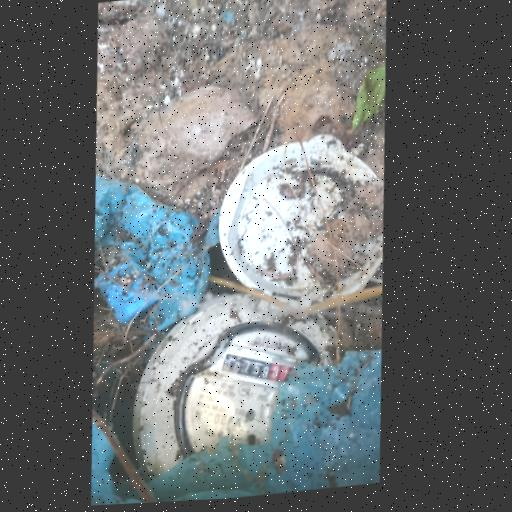0: (220, 352, 237, 374), (229, 354, 246, 376)
3: (267, 362, 283, 383)
5: (245, 357, 265, 379)
7: (237, 356, 255, 377), (275, 364, 293, 385)
9: (257, 360, 274, 381)
border_water_meter_number: (210, 335, 306, 402)
